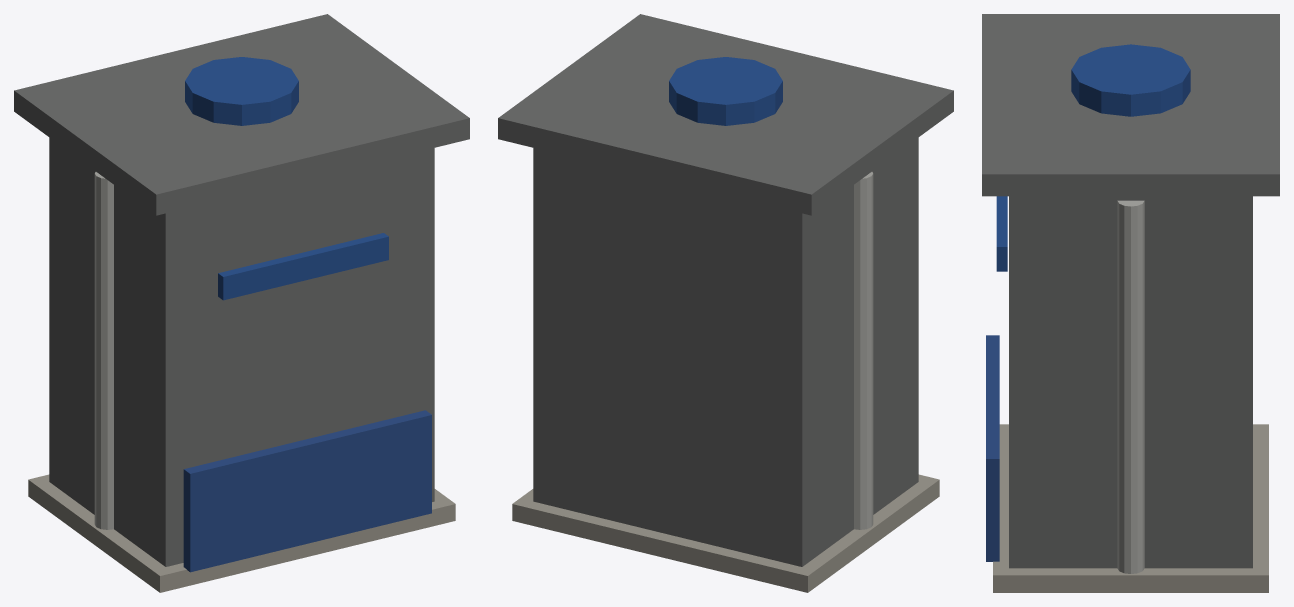
File: bld_commercial_a10_lod1.glb
The picture shows the model from 3 angles, left to right: view 1: azimuth 30°, elevation 25°; view 2: azimuth 150°, elevation 25°; view 3: azimuth 270°, elevation 25°; orthographic projection. The views are drawn at different scales.
Visible parts, largest first — view 1: body; view 2: body; view 3: body.
Part boxes in pixels (bbox=[...]): body: bbox=[14, 14, 469, 592]; body: bbox=[498, 14, 953, 592]; body: bbox=[982, 14, 1279, 592].
Size of the model in its own units: 7 by 9.12 by 5.5.
